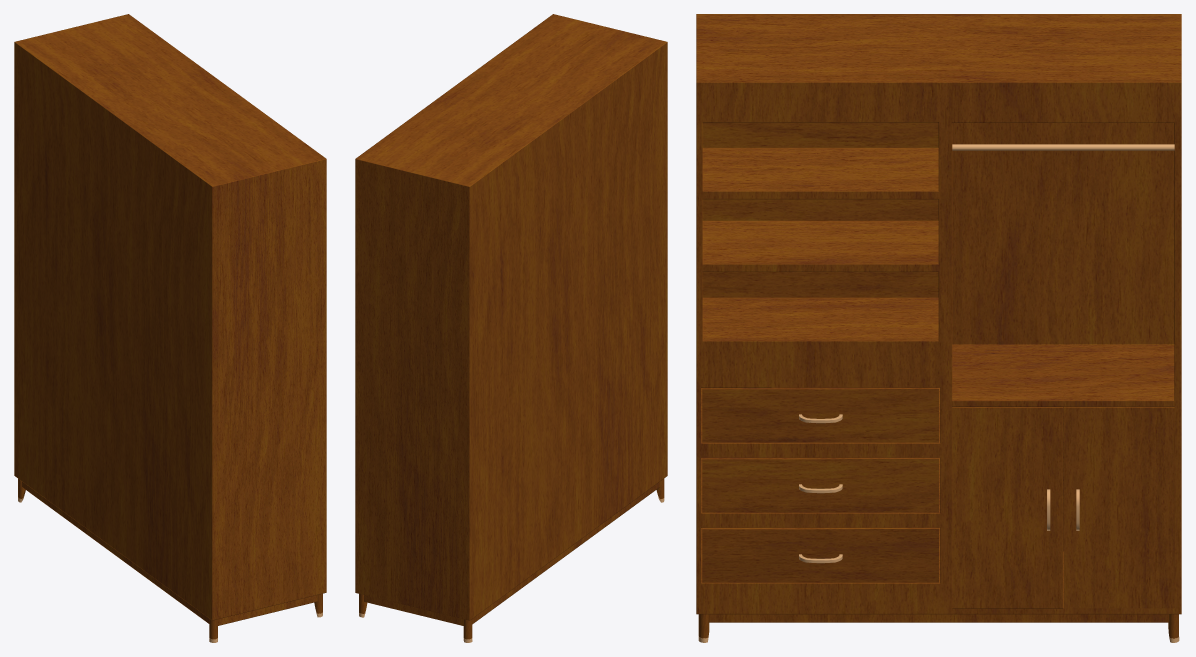
Rendered from 3d_wooden_cabinet.glb.
3 renders of one model, left to right at view 1: azimuth 30°, elevation 25°; view 2: azimuth 150°, elevation 25°; view 3: azimuth 270°, elevation 25°, orthographic. The views are drawn at different scales.
Parts seen in each view (by area): view 1: DRVO-material (×2); view 2: DRVO-material (×2); view 3: DRVO-material (×2), METAL-material.
Boxes of the visible parts, bbox=[...] form: DRVO-material (×2): bbox=[14, 14, 326, 625]; DRVO-material (×2): bbox=[355, 14, 667, 625]; DRVO-material (×2): bbox=[696, 14, 1181, 622]; METAL-material: bbox=[799, 144, 1174, 563].
Bounding box in the file's own units: 0.6225 × 2.18 × 1.71.
Materials: 2 (1 with a texture image).
